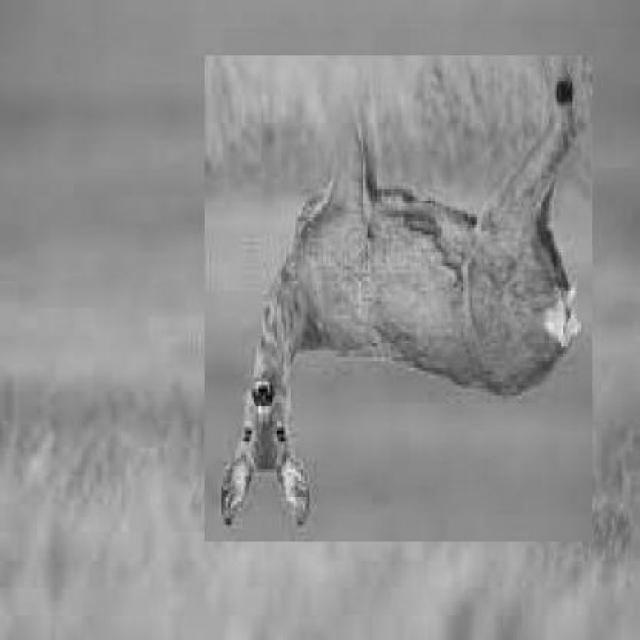Deer: (206, 55, 594, 543)
